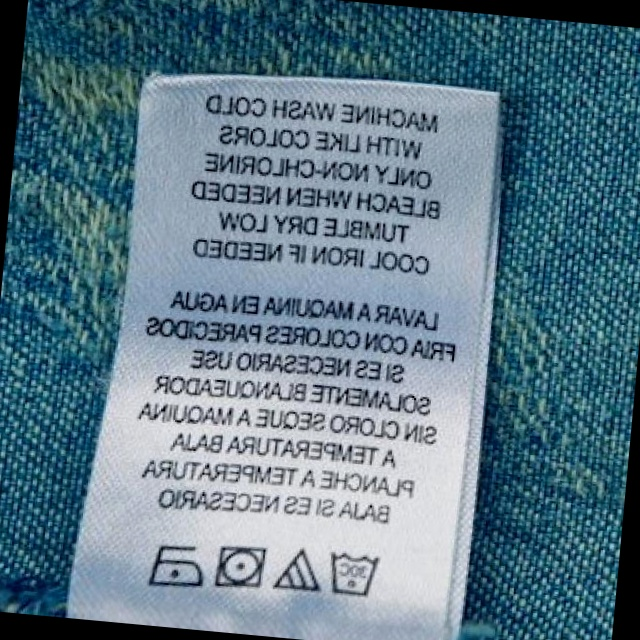30C: (323, 541, 381, 600)
iron_low: (147, 536, 210, 594)
non_chlorine_bleach: (275, 545, 322, 595)
tumble_dry_low: (205, 538, 270, 596)
